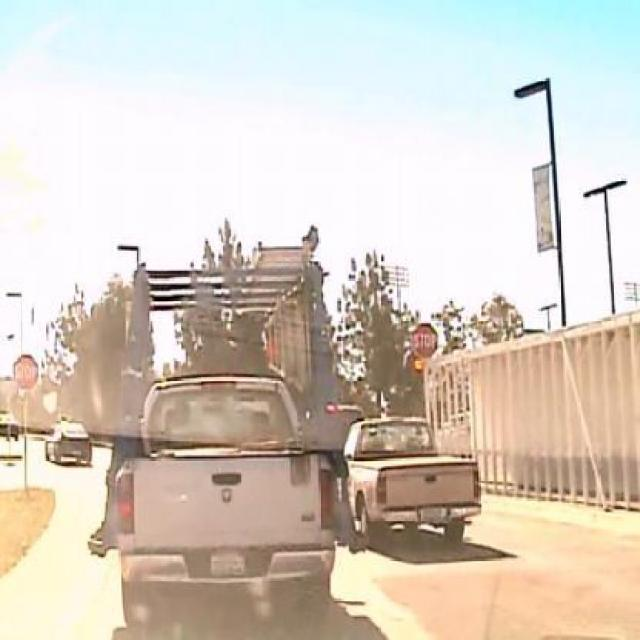Stop: (408, 322, 439, 361)
